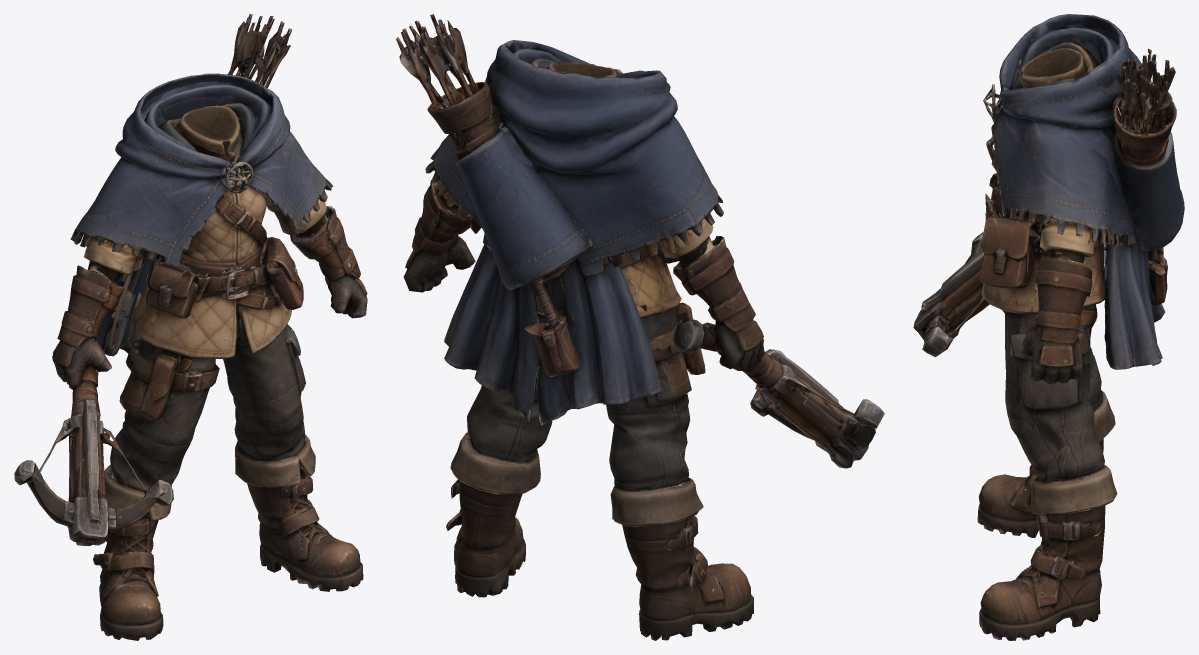
File: outfit.glb
The picture shows the model from 3 angles, left to right: view 1: azimuth 30°, elevation 25°; view 2: azimuth 150°, elevation 25°; view 3: azimuth 270°, elevation 25°; orthographic projection. The views are drawn at different scales.
Parts seen in each view (by area): view 1: texture_mapping; view 2: texture_mapping; view 3: texture_mapping.
Part boxes in pixels (left/top/right/bottom): texture_mapping: left=14, top=14, right=367, bottom=640; texture_mapping: left=396, top=14, right=884, bottom=640; texture_mapping: left=913, top=14, right=1184, bottom=640.
Bounding box in the file's own units: 0.7636 × 1 × 0.4337.
1 material, 1 textured.
